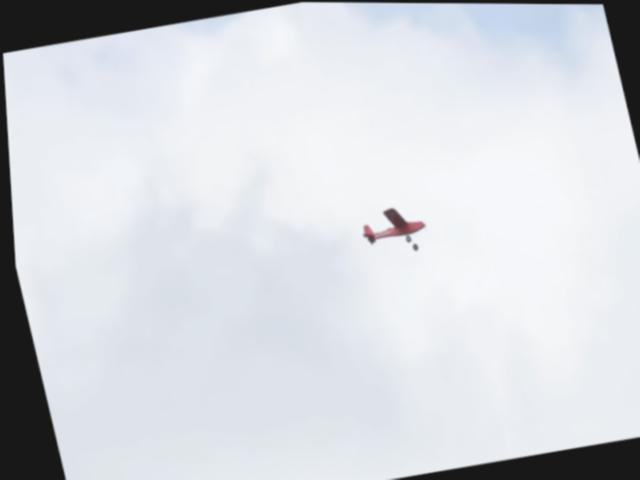plane: (354, 202, 427, 258)
